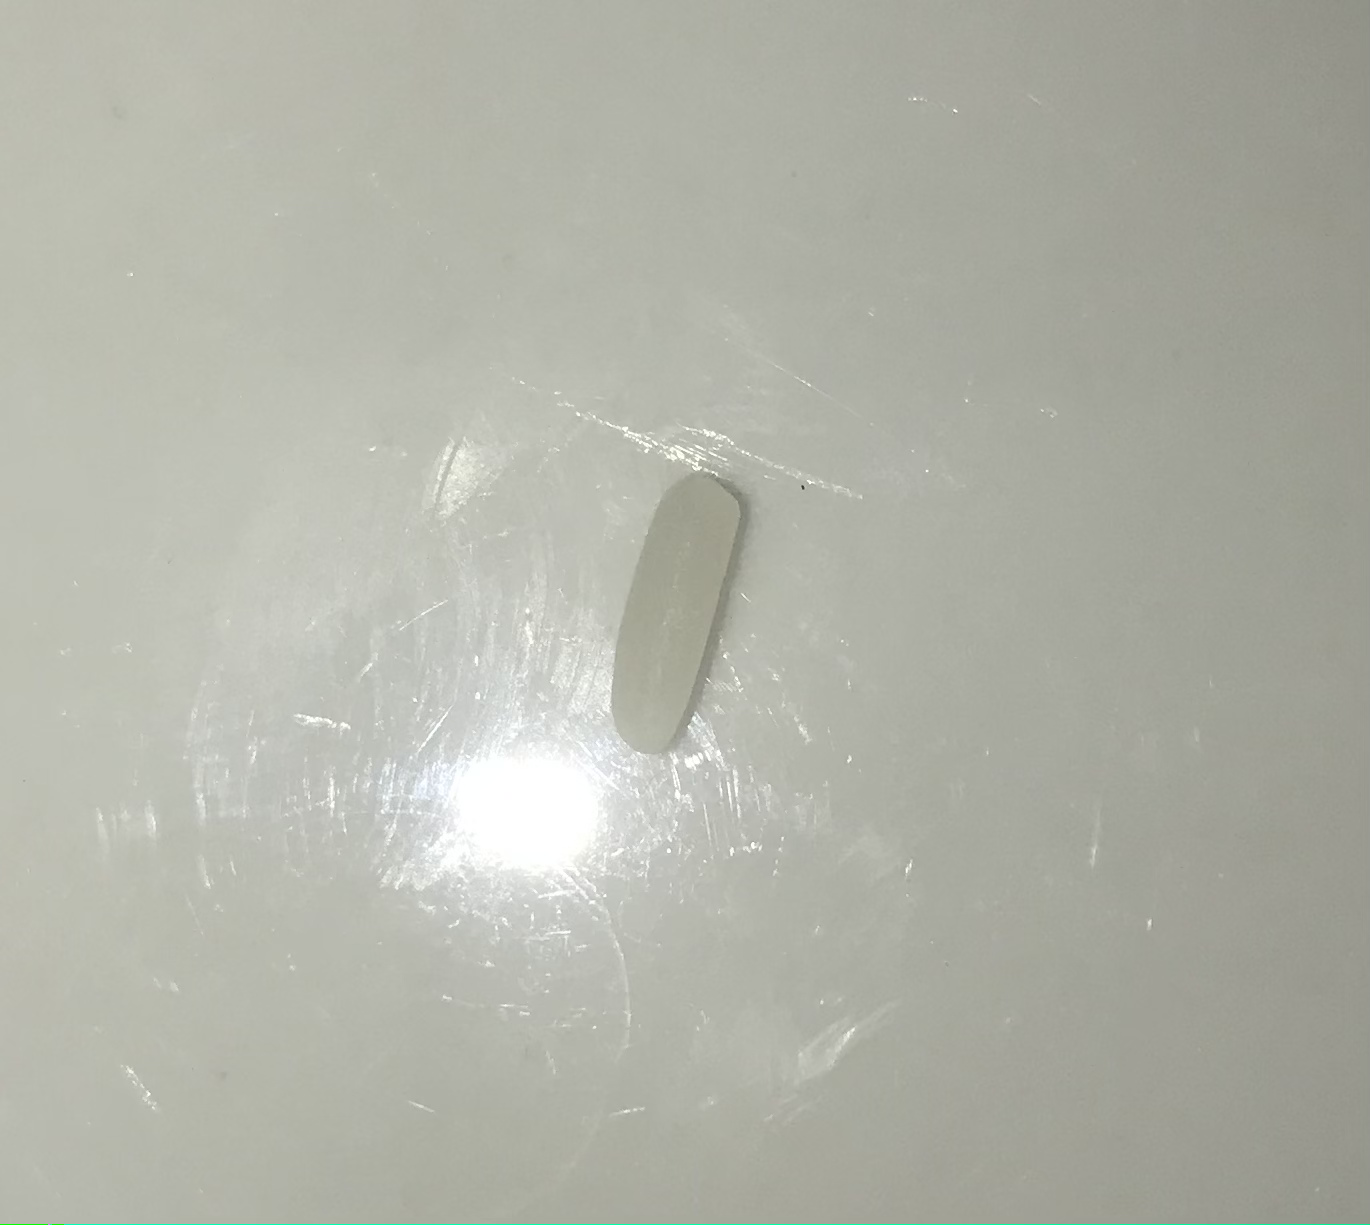Gao Thom Go Cong: (600, 446, 766, 783)
